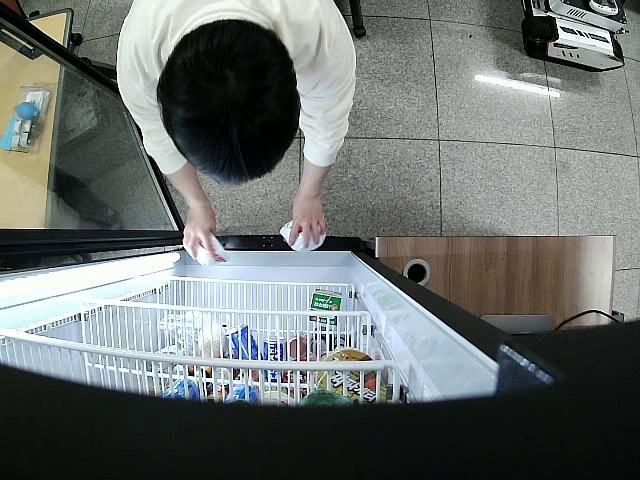00_hand: (289, 193, 327, 251), (183, 211, 219, 259)
09_yukGaeJang: (181, 226, 230, 269), (279, 217, 326, 254)
